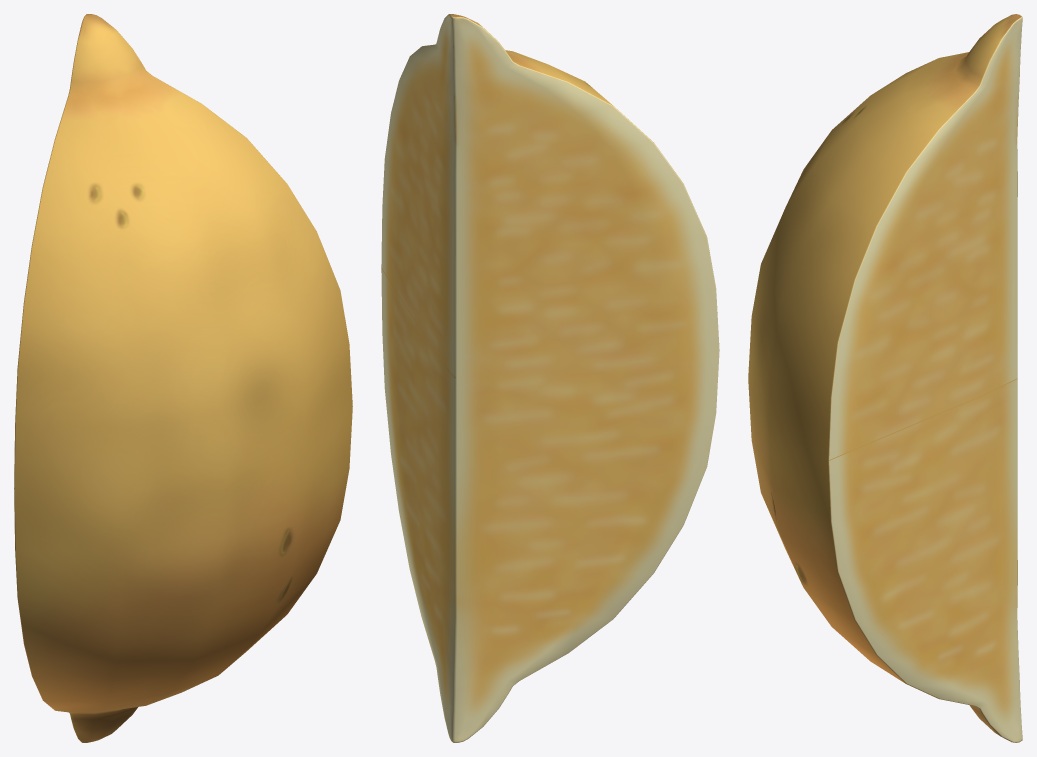
File: limon-cortado4.fbx
3 views of the same model, side by side, from view 1: azimuth 30°, elevation 25°; view 2: azimuth 150°, elevation 25°; view 3: azimuth 270°, elevation 25° (orthographic).
Visible parts, largest first — view 1: Limão Cortao4; view 2: Limão Cortao4; view 3: Limão Cortao4.
Boxes of the visible parts, left/top/right/bottom form: Limão Cortao4: left=14, top=14, right=352, bottom=742; Limão Cortao4: left=381, top=14, right=719, bottom=742; Limão Cortao4: left=748, top=14, right=1022, bottom=742.
Bounding box in the file's own units: 151 × 310 × 107.
